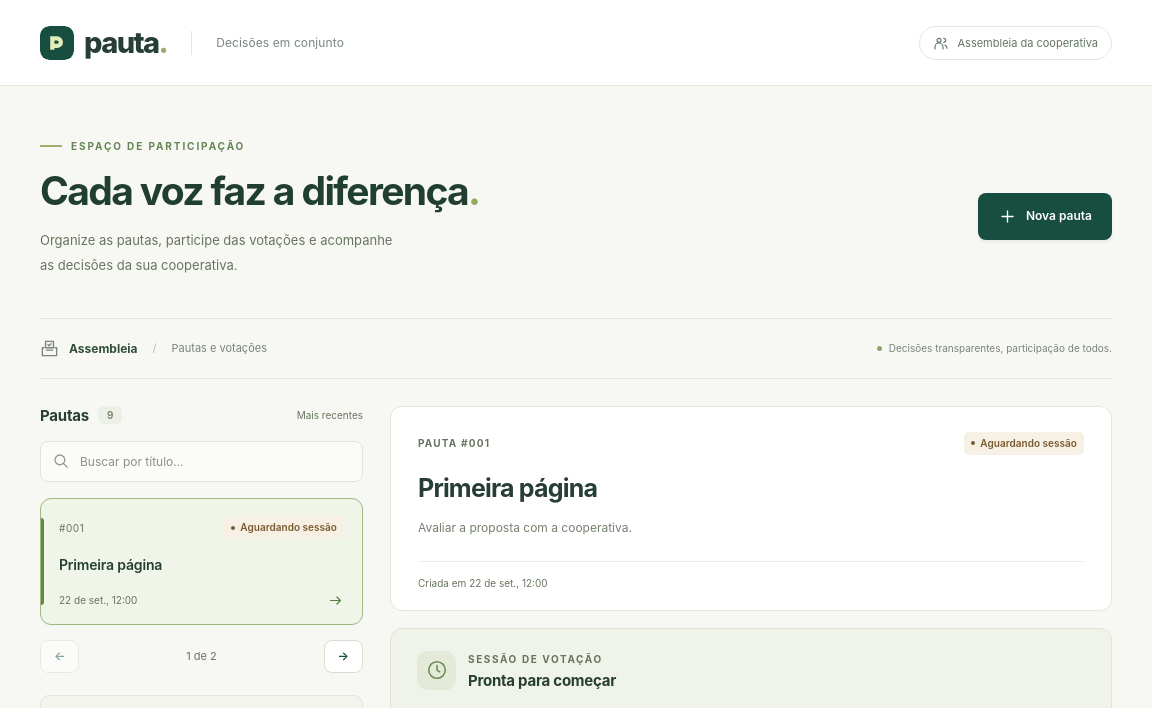
Test: fluxos da assembleia › troca a página e retorna à primeira ao iniciar uma busca
Expected: the heading "Primeira página" below "PAUTA #" is shown, [418,473,597,503]
Expected: the button named "Página anterior" is disabled, [40,640,80,672]
Click the button named "Próxima página" at (343, 656), box [324,640,363,672]
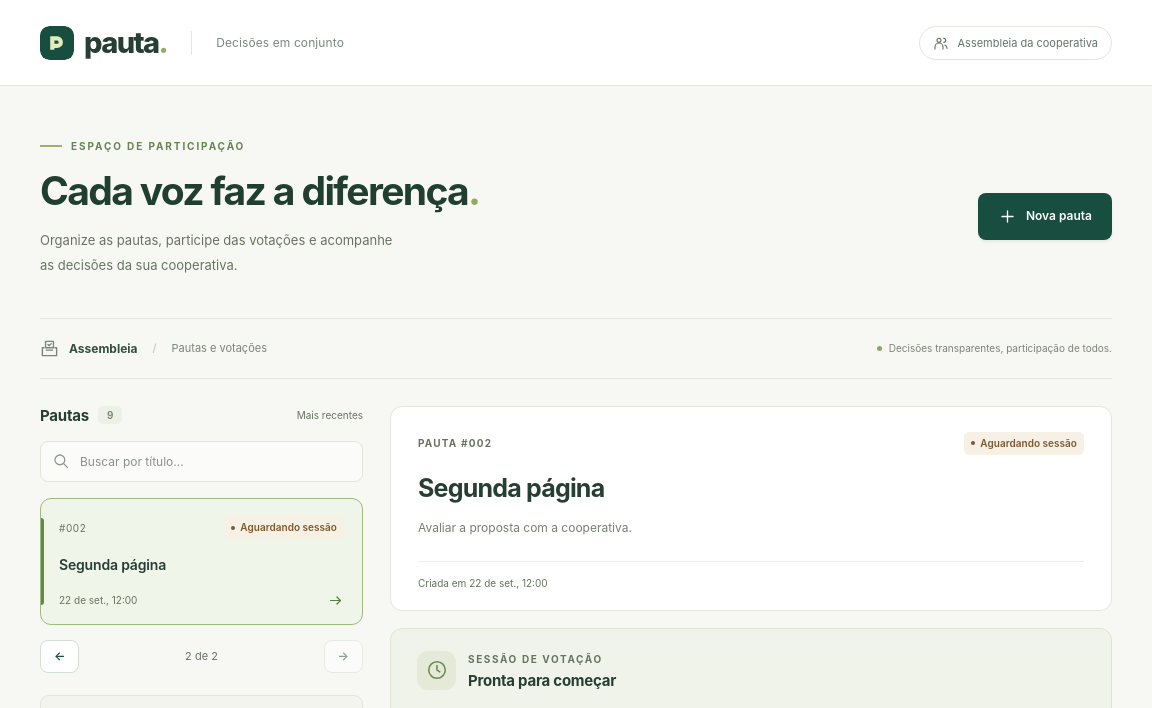
Expected: the heading "Segunda página" below "PAUTA #" is shown, [418,473,604,503]
Type "horário" into the search field named "Buscar pautas" at (202, 461), box [40,441,363,482]
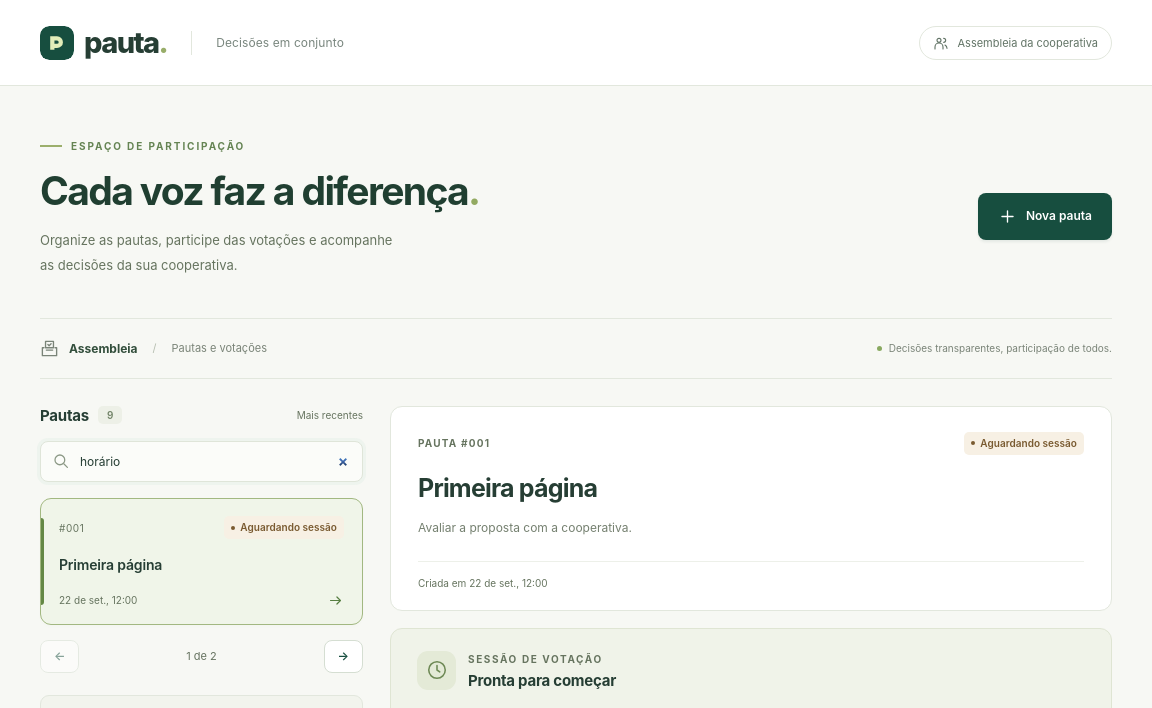
Expected: the heading "Primeira página" below "PAUTA #" is shown, [418,473,597,503]
